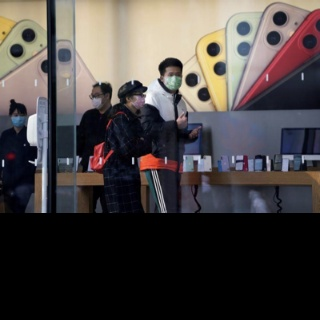with_mask: (164, 71, 182, 91), (90, 90, 104, 109), (132, 92, 146, 109), (11, 112, 25, 128)
